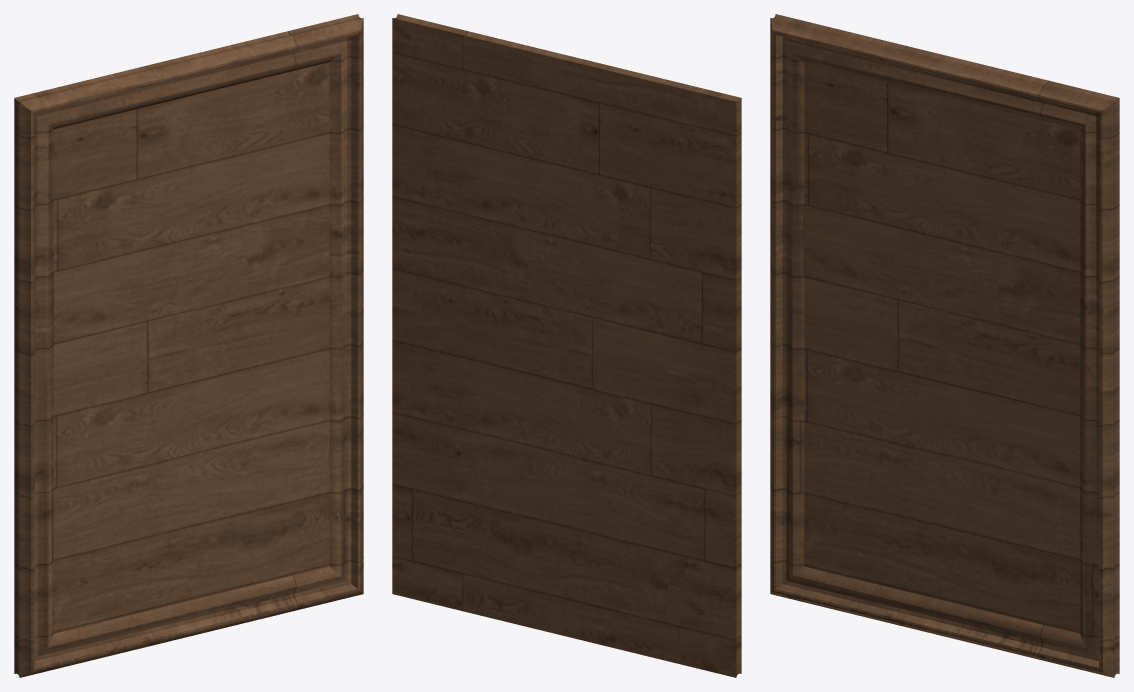
Rendered from marco_01.fbx.
3 views of the same model, side by side, from view 1: azimuth 30°, elevation 25°; view 2: azimuth 150°, elevation 25°; view 3: azimuth 330°, elevation 25° (orthographic).
Parts seen in each view (by area): view 1: marco_01; view 2: marco_01; view 3: marco_01.
Part boxes in pixels (bbox=[...]): marco_01: bbox=[14, 14, 363, 677]; marco_01: bbox=[392, 14, 741, 677]; marco_01: bbox=[770, 14, 1119, 677].
Bounding box in the file's own units: 109 × 174 × 5.74.
